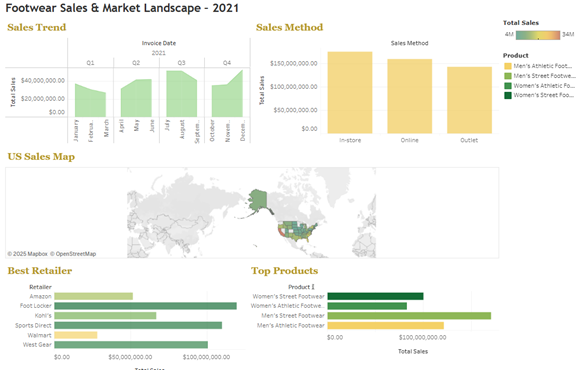

The page's visual inventory and layout, read from the dashboard file:
{"tool":"tableau","page":{"name":"Footwear Sales & Market Landscape","canvas":[1200,800],"ordinal":0},"visuals":[{"type":"title","box":[8,8,1184,37]},{"type":"worksheet","title":"Sales Trend","mark":"Area","rows":["Total Sales"],"cols":["Invoice Date","Invoice Date","Invoice Date"],"box":[8,45,512,264.9]},{"type":"worksheet","title":"Sales Method","mark":"Bar","rows":["Total Sales"],"cols":["Sales Method"],"box":[520,45,512,264.9]},{"type":"legend","title":"Sales Map","param":"[federated.04z1cmf1ts5ozk12mohmf0detv31].[sum:Total Sales:qk]","box":[1032,45,160,68]},{"type":"legend","title":"Top Products","param":"[federated.04z1cmf1ts5ozk12mohmf0detv31].[none:Product:nk]","box":[1032,113,160,107]},{"type":"worksheet","title":"Sales Map","mark":"Multipolygon","box":[8,309.9,1024,235.3]},{"type":"worksheet","title":"Best Retailer","mark":"Automatic","rows":["Retailer"],"cols":["Total Sales"],"box":[8,545.2,502,246.8]},{"type":"worksheet","title":"Top Products","mark":"Bar","rows":["Product"],"cols":["Total Sales"],"box":[510,545.2,522,246.8]}]}

Visuals, with their boxes on the page's 1200x800 design canvas (x1, y1, x2, y2). These are canvas units, not pixel positions in the 579x370 screenshot, which may show the page scaled, cropped or inside an application window:
title: 8,8,1192,45
"Sales Trend" worksheet (Area marks): 8,45,520,310
"Sales Method" worksheet (Bar marks): 520,45,1032,310
"Sales Map" legend: 1032,45,1192,113
"Top Products" legend: 1032,113,1192,220
"Sales Map" worksheet (Multipolygon marks): 8,310,1032,545
"Best Retailer" worksheet: 8,545,510,792
"Top Products" worksheet (Bar marks): 510,545,1032,792
